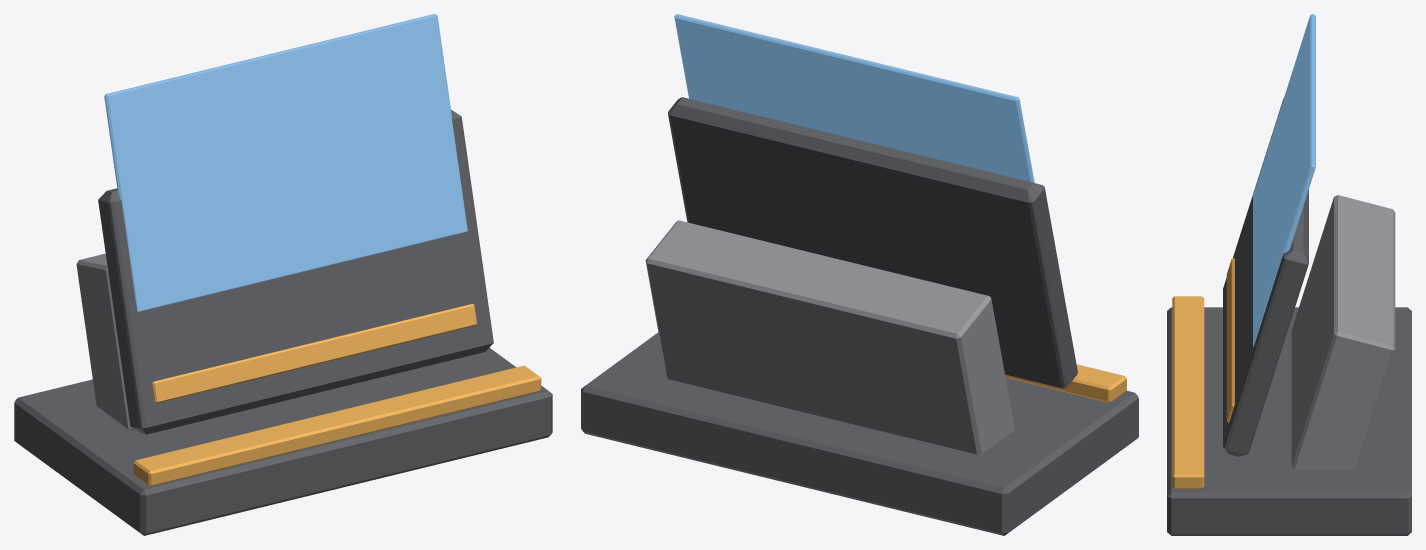
File: 35494_Studio_Floor_Monitor__TV_Studio_and_Broadcast_Gallery_.glb
3 renders of one model, left to right at view 1: azimuth 30°, elevation 25°; view 2: azimuth 150°, elevation 25°; view 3: azimuth 270°, elevation 25°, orthographic. The views are drawn at different scales.
Parts seen in each view (by area): view 1: floor-monitor; view 2: floor-monitor; view 3: floor-monitor.
Boxes of the visible parts, x1,y1,x2,y2 form: floor-monitor: (14,14,552,535); floor-monitor: (581,14,1138,535); floor-monitor: (1167,14,1411,535).
Bounding box in the file's own units: 0.84 × 0.734 × 0.4601.
